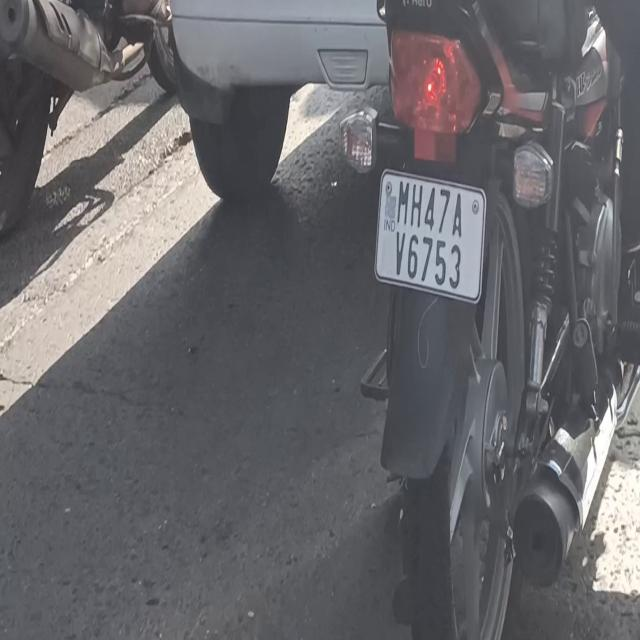licenseplate: (373, 165, 487, 305)
